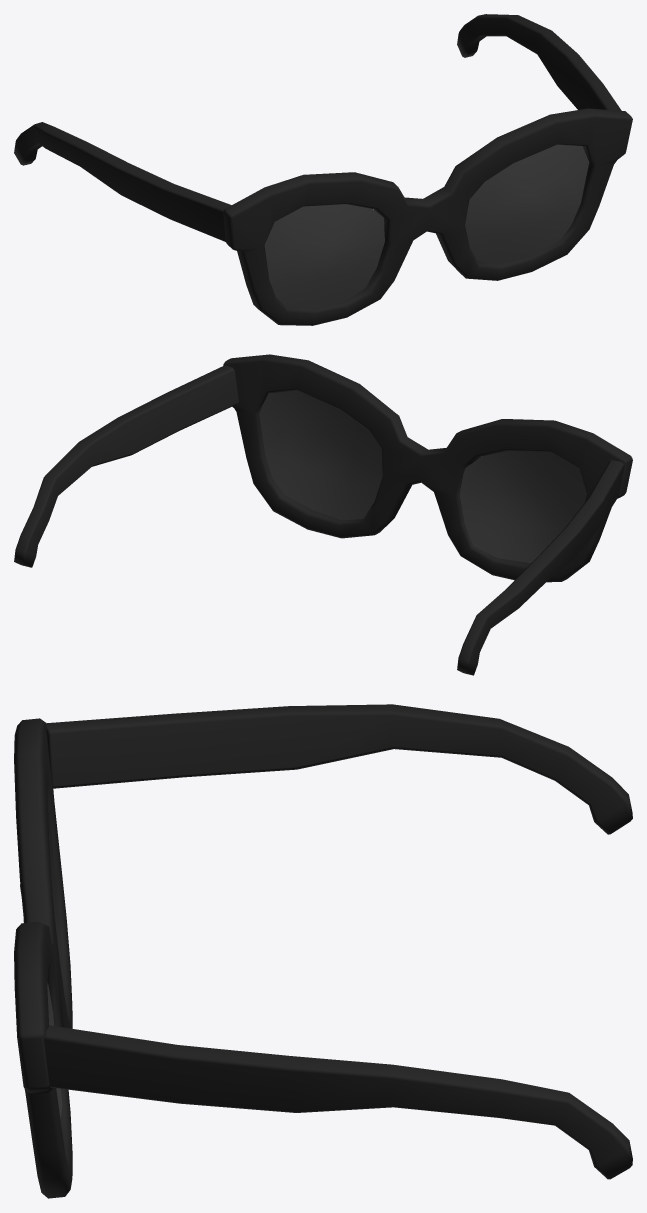
File: Glasses_005.glb
3 views of the same model, one above another, from view 1: azimuth 30°, elevation 25°; view 2: azimuth 150°, elevation 25°; view 3: azimuth 270°, elevation 25° (orthographic). The views are drawn at different scales.
Parts seen in each view (by area): view 1: Glasses_005; view 2: Glasses_005; view 3: Glasses_005.
Part boxes in pixels (x1=…): Glasses_005: x1=14, y1=14, x2=632, y2=325; Glasses_005: x1=14, y1=354, x2=632, y2=675; Glasses_005: x1=14, y1=704, x2=632, y2=1198.
Bounding box in the file's own units: 0.4523 × 0.1429 × 0.3176.
1 material, 1 textured.
